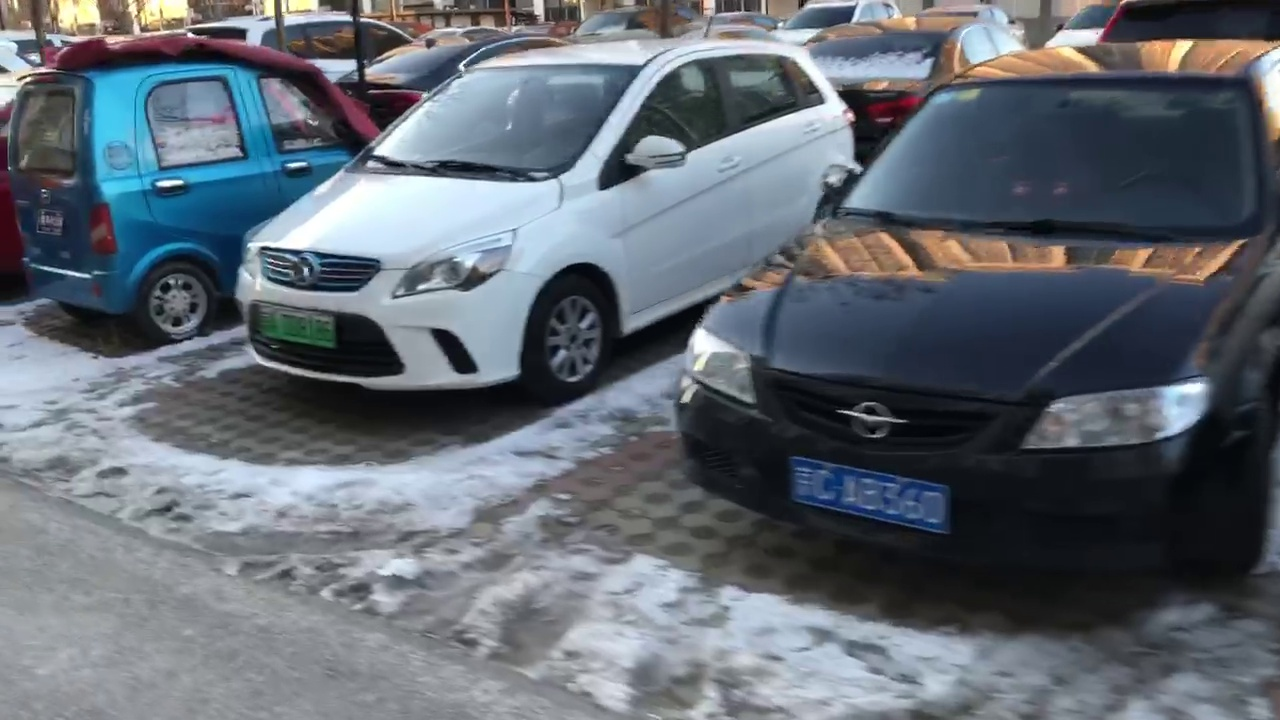plate: (785, 466, 960, 521), (251, 307, 336, 342)
